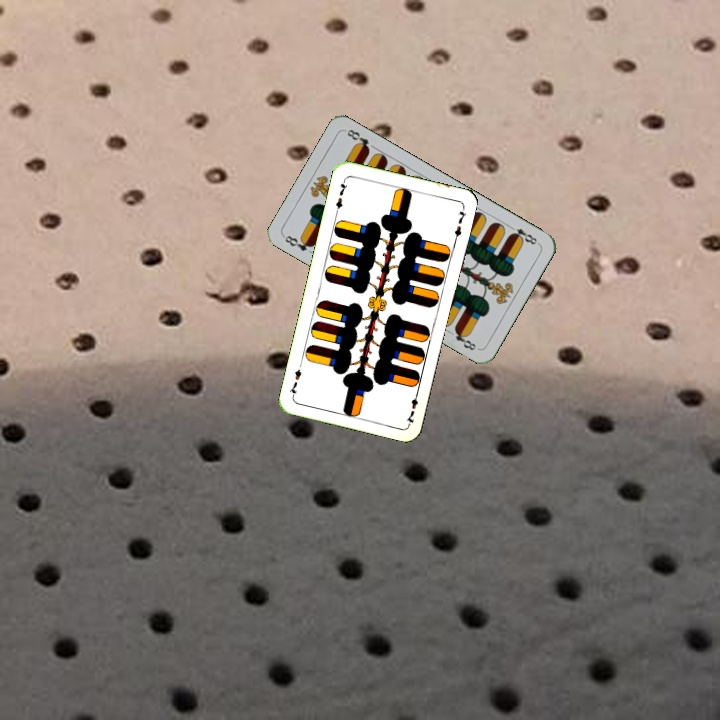E7: (331, 175, 350, 215), (402, 386, 421, 426)
E8: (504, 221, 541, 247), (280, 231, 317, 254)
